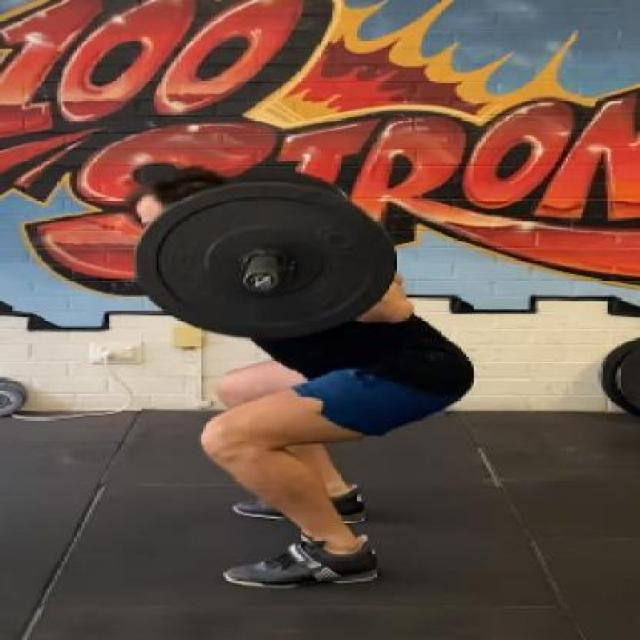barbell: (134, 180, 401, 346)
